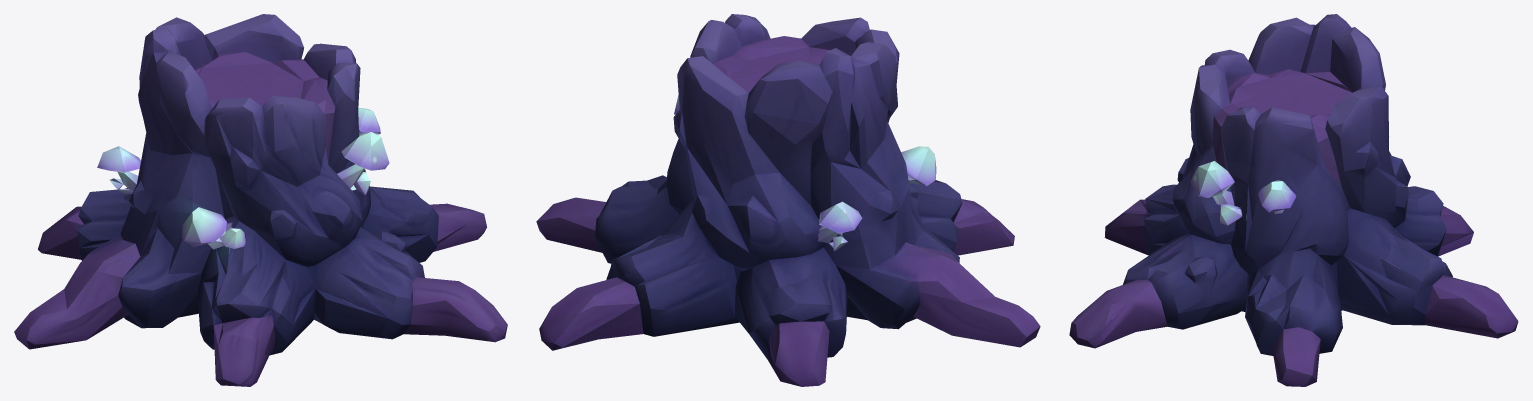
File: tree_stump.glb
The picture shows the model from 3 angles, left to right: view 1: azimuth 30°, elevation 25°; view 2: azimuth 150°, elevation 25°; view 3: azimuth 270°, elevation 25°; orthographic projection. The views are drawn at different scales.
Size of the model in its own units: 1.89 by 0.9967 by 1.71.
1 material, 1 textured.
